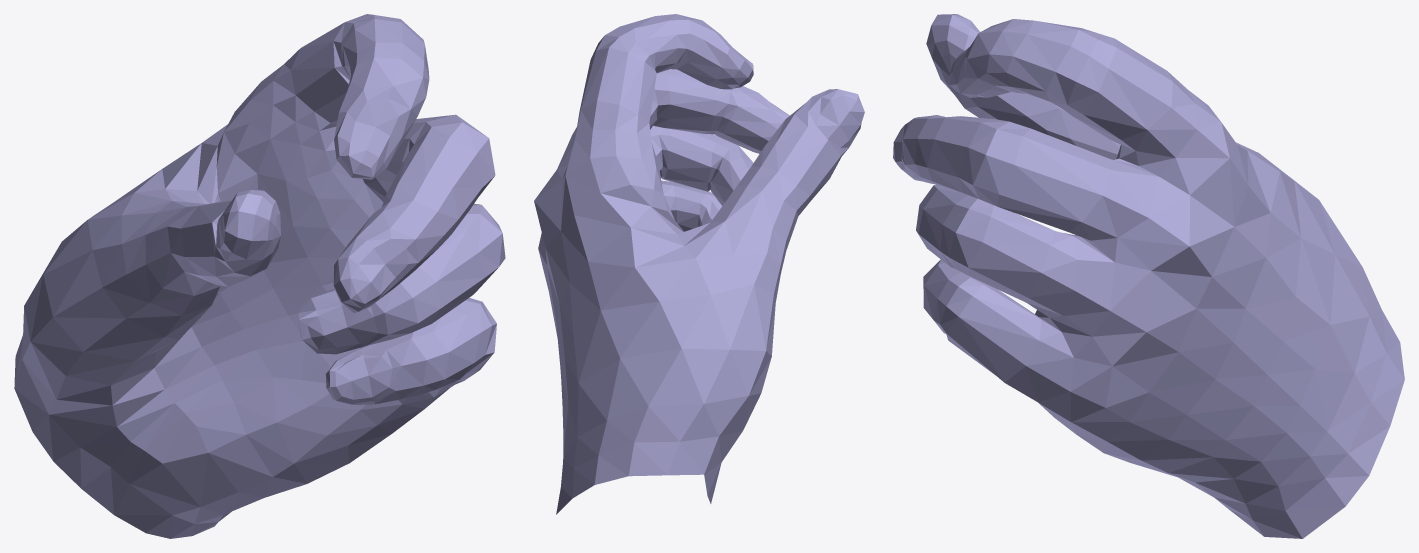
Rendered from hand_0105.glb.
The picture shows the model from 3 angles, left to right: view 1: azimuth 30°, elevation 25°; view 2: azimuth 150°, elevation 25°; view 3: azimuth 270°, elevation 25°; orthographic projection. The views are drawn at different scales.
Parts seen in each view (by area): view 1: world; view 2: world; view 3: world.
Boxes of the visible parts, bbox=[...] form: world: bbox=[14, 14, 505, 538]; world: bbox=[534, 14, 864, 514]; world: bbox=[893, 14, 1404, 538].
Size of the model in its own units: 0.0837 by 0.1352 by 0.117.
